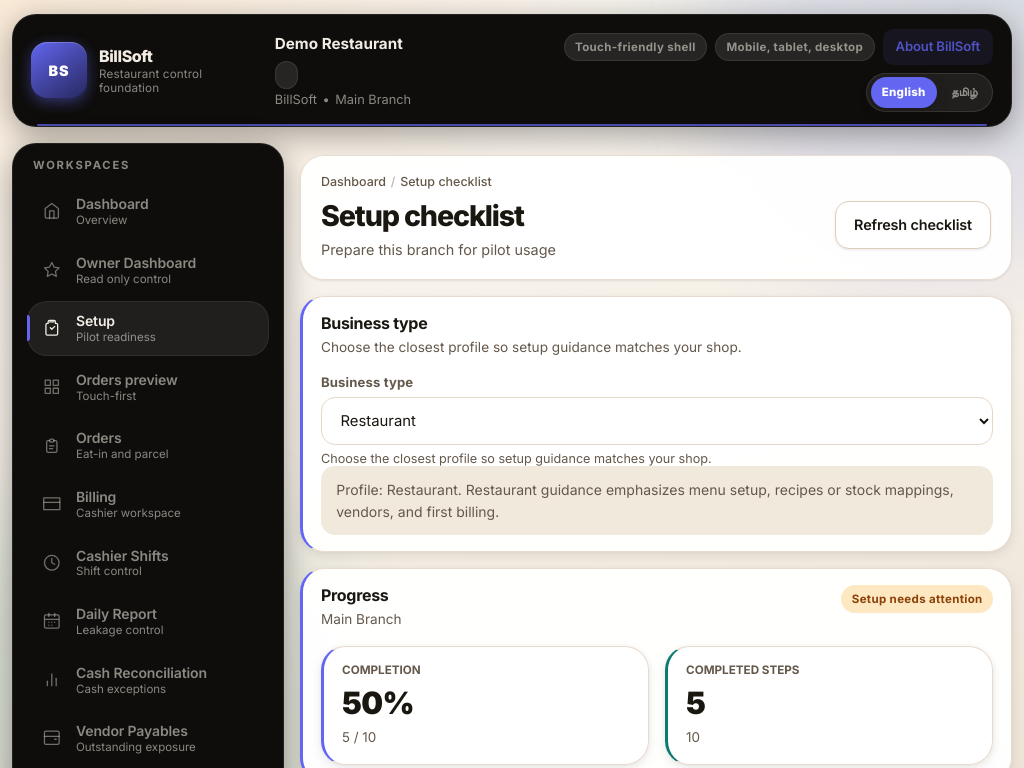
Test: SetupChecklistPage › saves the selected business type and reloads the checklist for Branch.Manage users
This screenshot has width=1024, height=768.
Step 1. Select "Juice shop" in the dropdown labelled "Business type" → (657, 421), box [321,397,993,445]
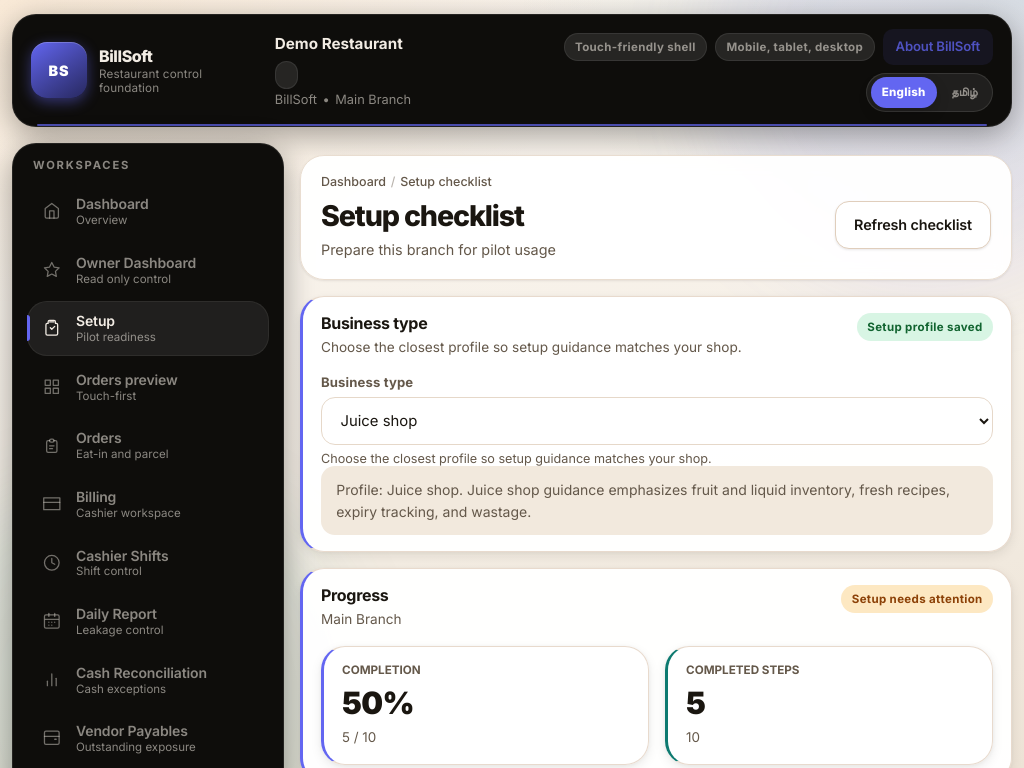
Check: the text "Setup profile saved" is shown, box [867,320,983,334]
